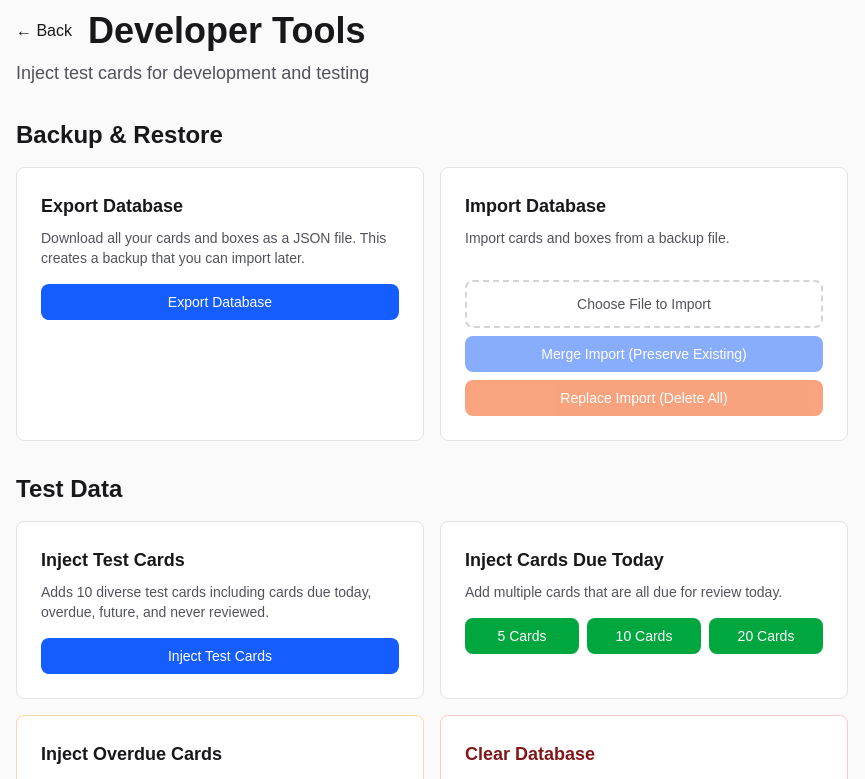
it: Dev Tools Page › Inject Test Cards › should inject test cards when button is clicked
Click the button "Inject Test Cards": (220, 656) [41, 638, 399, 674]
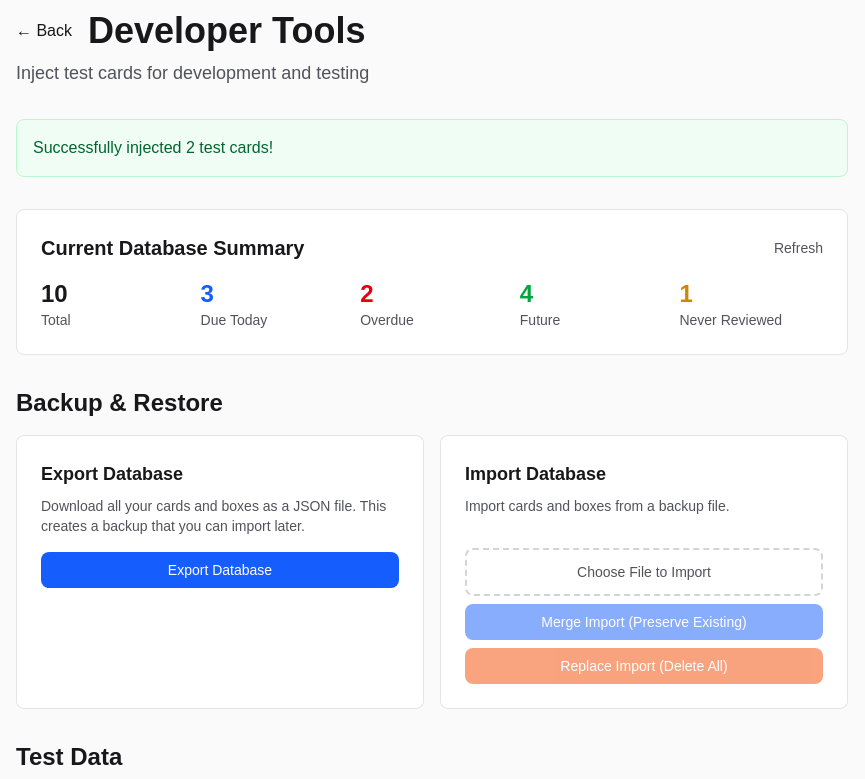
Now the text "Successfully injected 2 test cards!" is shown, box [16, 119, 848, 177]
